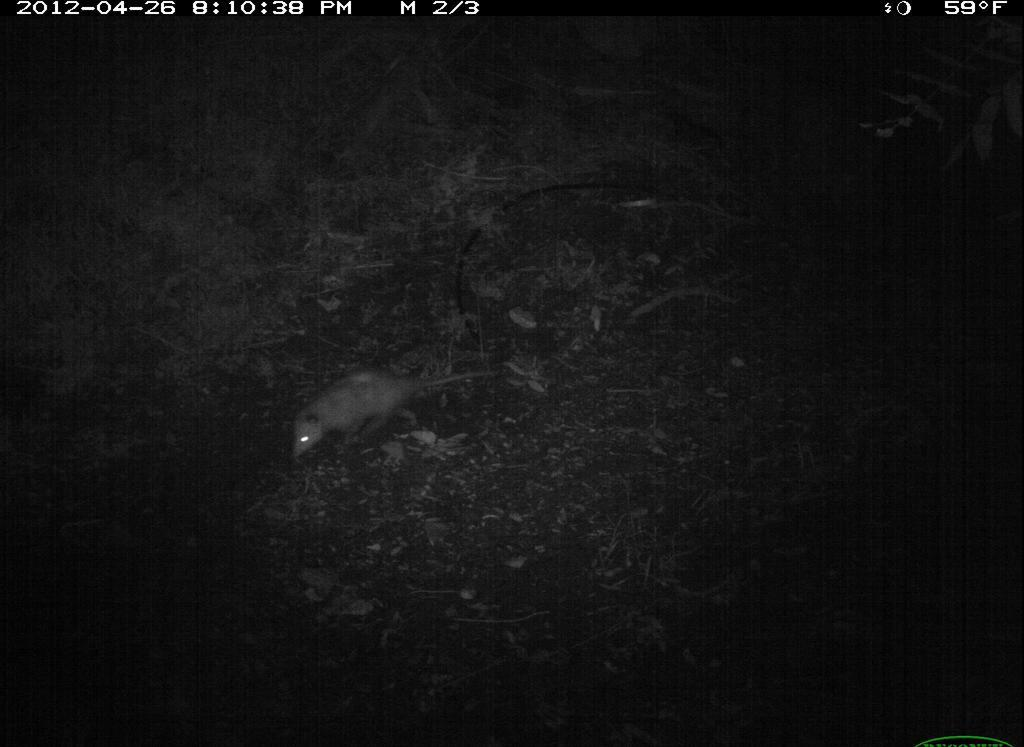opossum: (282, 356, 520, 470)
